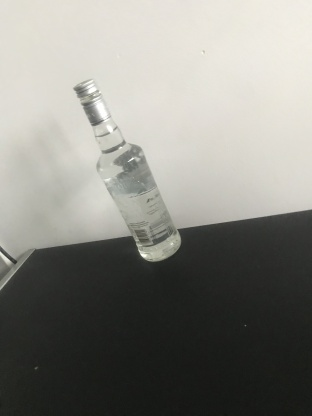nakretka: (71, 75, 111, 127)
